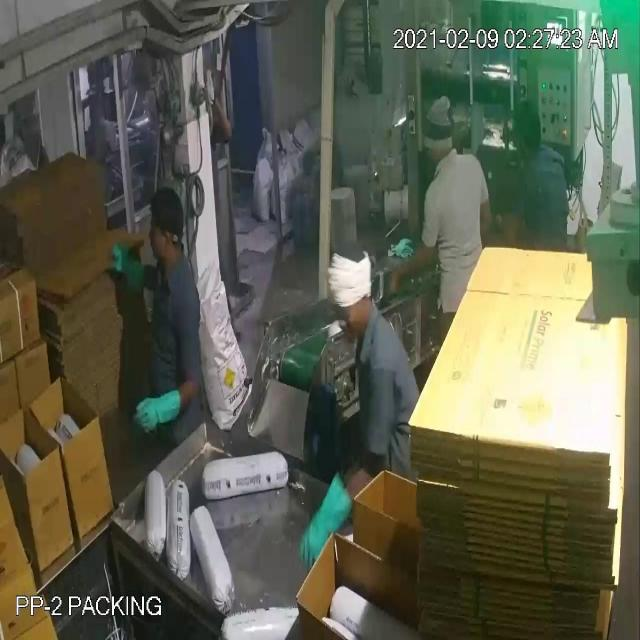Gloves: (51, 60, 410, 517)
